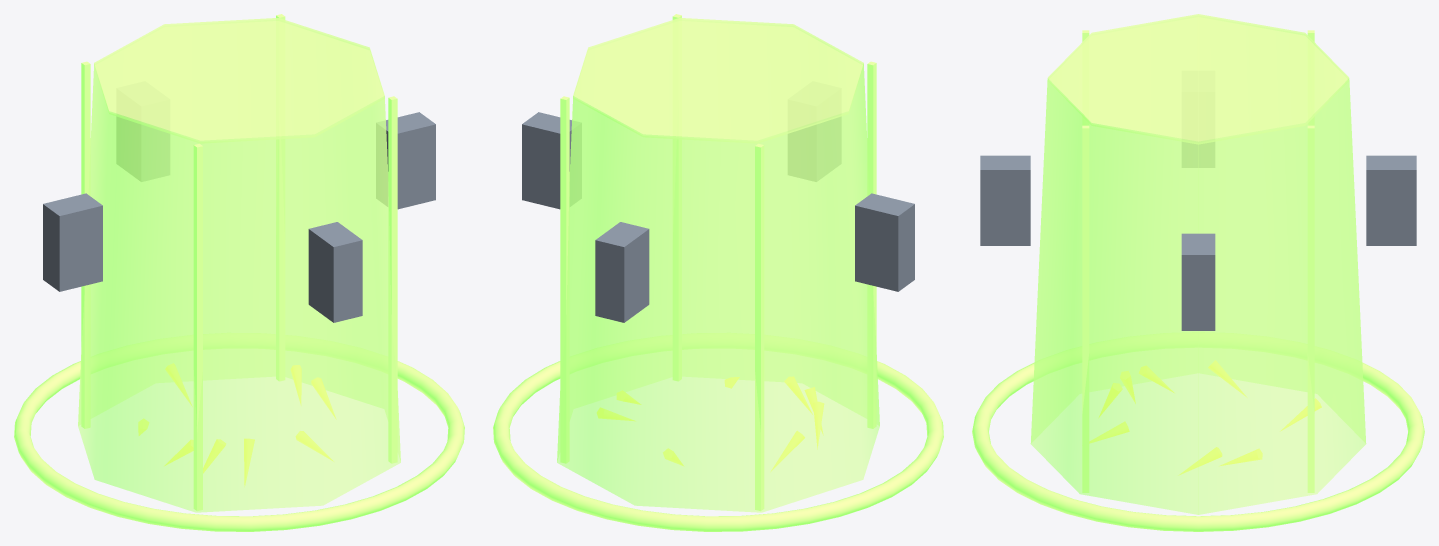
The model's file is vfx_tower_place.glb.
The picture shows the model from 3 angles, left to right: view 1: azimuth 30°, elevation 25°; view 2: azimuth 150°, elevation 25°; view 3: azimuth 270°, elevation 25°; orthographic projection.
Visible parts, largest first — view 1: place_holo, place_holo_cap, place_ring, place_clamp2, place_clamp1, place_clamp0, place_edge0, place_edge1, place_edge2, place_clamp3, place_edge3, place_sparks; view 2: place_holo, place_holo_cap, place_ring, place_clamp2, place_clamp3, place_clamp0, place_edge3, place_edge2, place_edge1, place_clamp1, place_edge0, place_sparks; view 3: place_holo, place_holo_cap, place_ring, place_clamp1, place_clamp3, place_clamp0, place_edge0, place_edge3, place_sparks, place_clamp2.
Boxes of the visible parts, left/top/right/bottom form: place_holo: left=78, top=64, right=400, bottom=512; place_holo_cap: left=94, top=18, right=384, bottom=143; place_ring: left=14, top=333, right=464, bottom=531; place_clamp2: left=43, top=193, right=102, bottom=291; place_clamp1: left=308, top=222, right=362, bottom=322; place_clamp0: left=376, top=112, right=435, bottom=209; place_edge0: left=388, top=96, right=397, bottom=463; place_edge1: left=193, top=143, right=202, bottom=510; place_edge2: left=81, top=61, right=90, bottom=428; place_clamp3: left=117, top=117, right=169, bottom=181; place_edge3: left=276, top=14, right=285, bottom=381; place_sparks: left=138, top=363, right=335, bottom=484; place_holo: left=557, top=64, right=879, bottom=512; place_holo_cap: left=573, top=18, right=863, bottom=143; place_ring: left=493, top=333, right=943, bottom=531; place_clamp2: left=855, top=193, right=914, bottom=291; place_clamp3: left=595, top=222, right=649, bottom=322; place_clamp0: left=522, top=112, right=581, bottom=209; place_edge3: left=560, top=96, right=569, bottom=463; place_edge2: left=755, top=143, right=764, bottom=510; place_edge1: left=867, top=61, right=876, bottom=428; place_clamp1: left=788, top=117, right=840, bottom=181; place_edge0: left=672, top=14, right=681, bottom=381; place_sparks: left=597, top=376, right=823, bottom=470; place_holo: left=1030, top=80, right=1366, bottom=514; place_holo_cap: left=1047, top=14, right=1349, bottom=144; place_ring: left=972, top=332, right=1424, bottom=531; place_clamp1: left=980, top=155, right=1030, bottom=245; place_clamp3: left=1366, top=155, right=1416, bottom=245; place_clamp0: left=1181, top=233, right=1215, bottom=330; place_edge0: left=1082, top=125, right=1089, bottom=492; place_edge3: left=1307, top=125, right=1314, bottom=492; place_sparks: left=1089, top=360, right=1321, bottom=474; place_clamp2: left=1182, top=142, right=1214, bottom=167.
Size of the model in its own units: 2.7 by 2.41 by 2.7.
